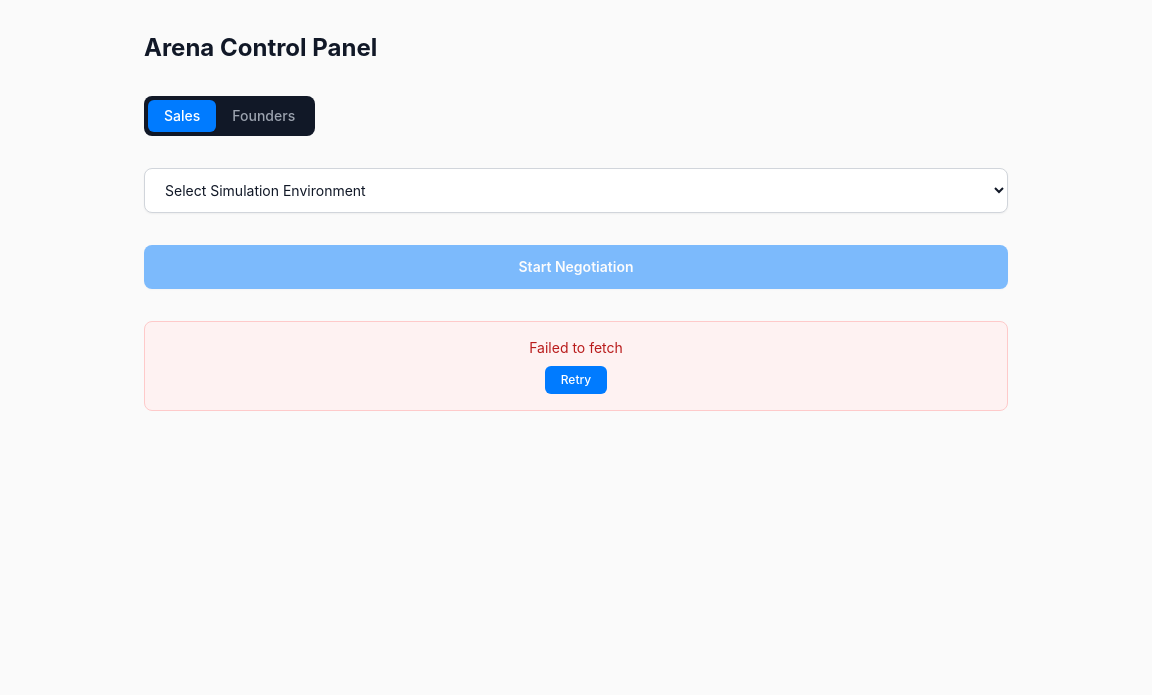
Arena Control Panel Page › displays error detail from non-429 API errors
Select "[Beginner] The Talent War" in the dropdown. click: (576, 190)
box: [144,168,1008,213]
(page scrolled)
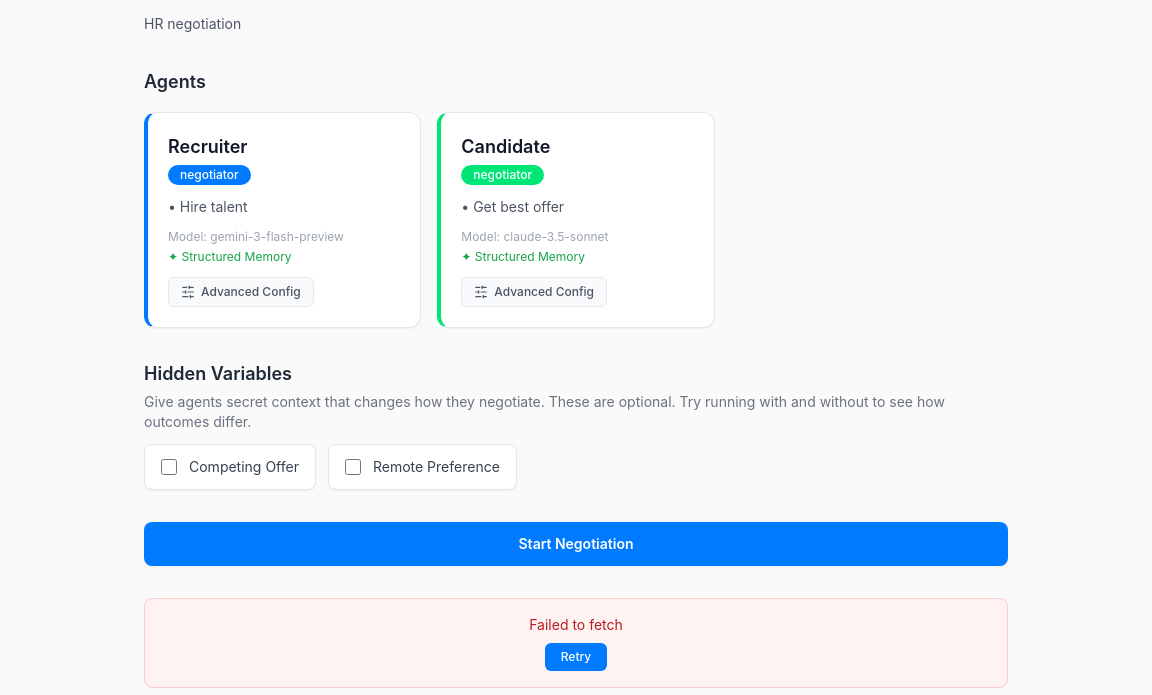
Expected: the heading "Recruiter" is shown, [168,133,251,161]
Click the button "Start Negotiation". click: (576, 544)
box: [144,522,1008,566]
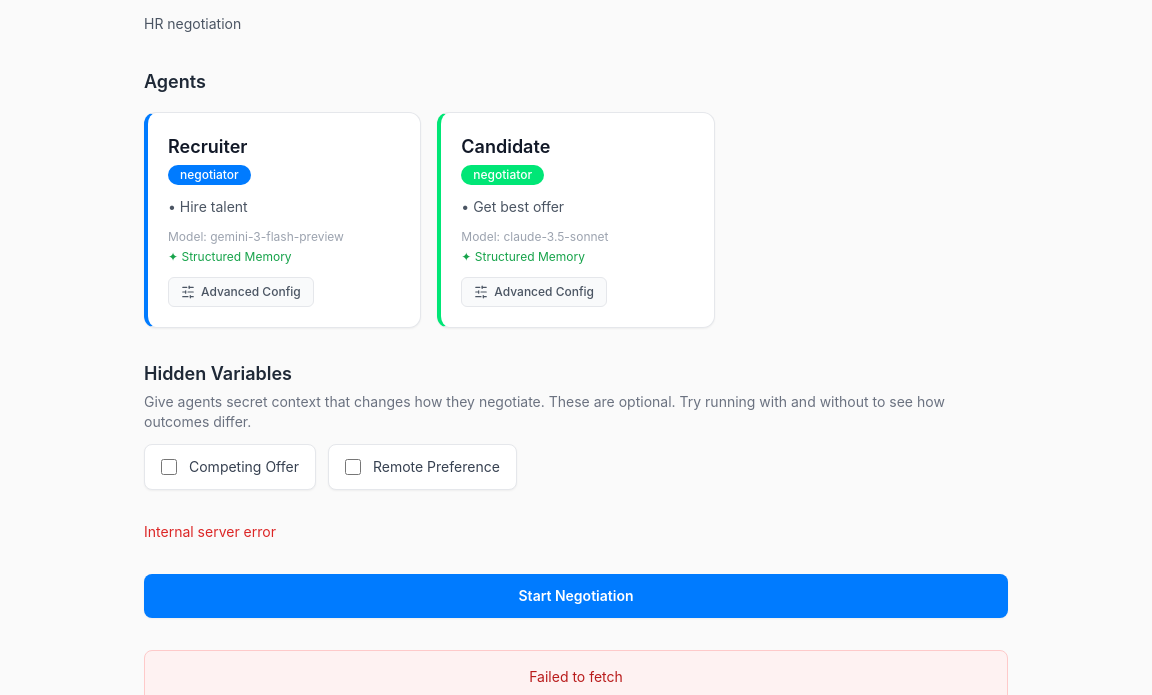
Expected: the text "Internal server error" is shown, [144,523,276,540]
